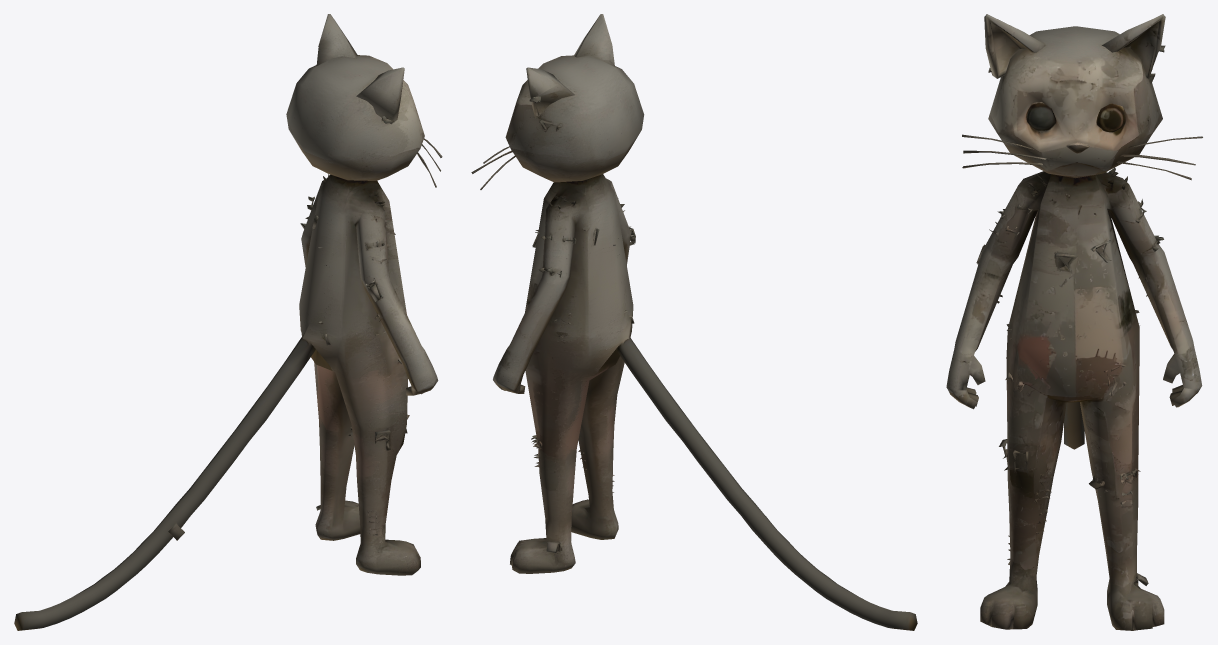
3 views of the same model, side by side, from view 1: azimuth 30°, elevation 25°; view 2: azimuth 150°, elevation 25°; view 3: azimuth 270°, elevation 25° (orthographic). The views are drawn at different scales.
Parts seen in each view (by area): view 1: tripo_node_2fffe244-5710-4d01-8da2-d91f0c2b9f84; view 2: tripo_node_2fffe244-5710-4d01-8da2-d91f0c2b9f84; view 3: tripo_node_2fffe244-5710-4d01-8da2-d91f0c2b9f84.
Part boxes in pixels (x1,y1,x2,y2): tripo_node_2fffe244-5710-4d01-8da2-d91f0c2b9f84: (14, 14, 442, 630); tripo_node_2fffe244-5710-4d01-8da2-d91f0c2b9f84: (471, 14, 917, 630); tripo_node_2fffe244-5710-4d01-8da2-d91f0c2b9f84: (946, 14, 1202, 630).
Size of the model in its own units: 0.8145 by 0.998 by 0.3848.
Materials: 1 (1 with a texture image).
